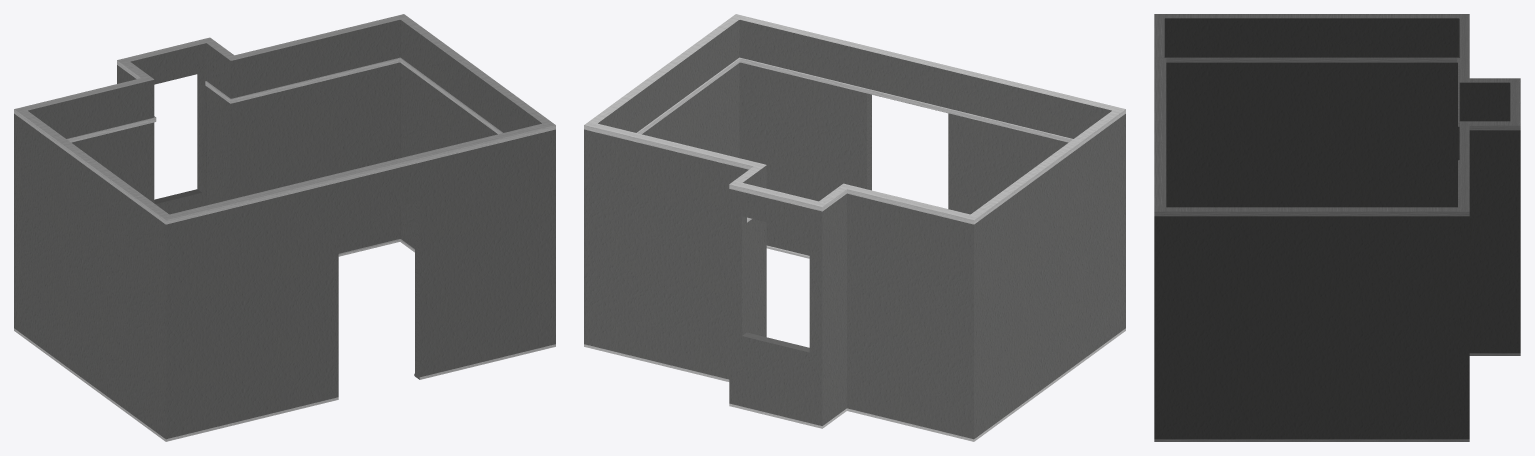
File: FP303:StandardWallSize_fd28f55f.obj
3 renders of one model, left to right at view 1: azimuth 30°, elevation 25°; view 2: azimuth 150°, elevation 25°; view 3: azimuth 270°, elevation 25°, orthographic. The views are drawn at different scales.
Visible parts, largest first — view 1: FP303:StandardWallSize_fd28f55f; view 2: FP303:StandardWallSize_fd28f55f; view 3: FP303:StandardWallSize_fd28f55f.
Part boxes in pixels (x1,y1,x2,y2): FP303:StandardWallSize_fd28f55f: (14, 14, 555, 441); FP303:StandardWallSize_fd28f55f: (584, 14, 1125, 441); FP303:StandardWallSize_fd28f55f: (1154, 14, 1520, 441).
Size of the model in its own units: 4.6 by 2.5 by 3.6.
